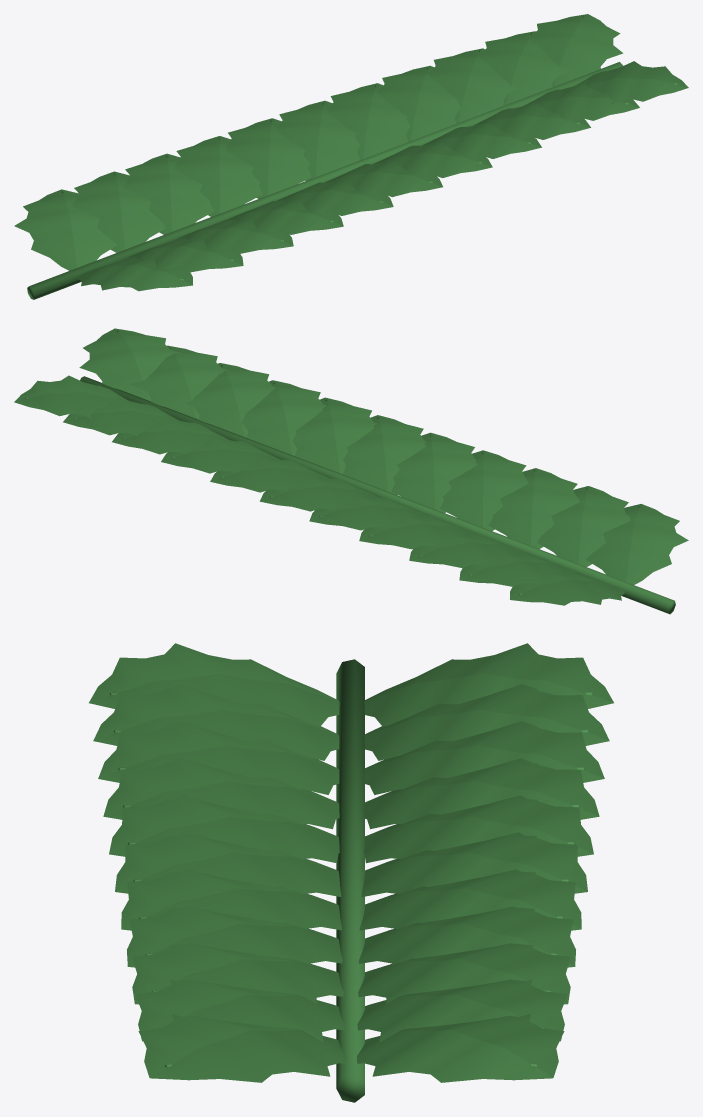
Rendered from Basil.glb.
3 views of the same model, one above another, from view 1: azimuth 30°, elevation 25°; view 2: azimuth 150°, elevation 25°; view 3: azimuth 270°, elevation 25° (orthographic). The views are drawn at different scales.
Visible parts, largest first — view 1: Basil; view 2: Basil; view 3: Basil.
Boxes of the visible parts, x1,y1,x2,y2 form: Basil: (14, 14, 688, 299); Basil: (14, 328, 688, 614); Basil: (89, 643, 613, 1102).
Size of what is drawn, in the model's own units: 0.1038 by 0.0171 by 0.0385.
